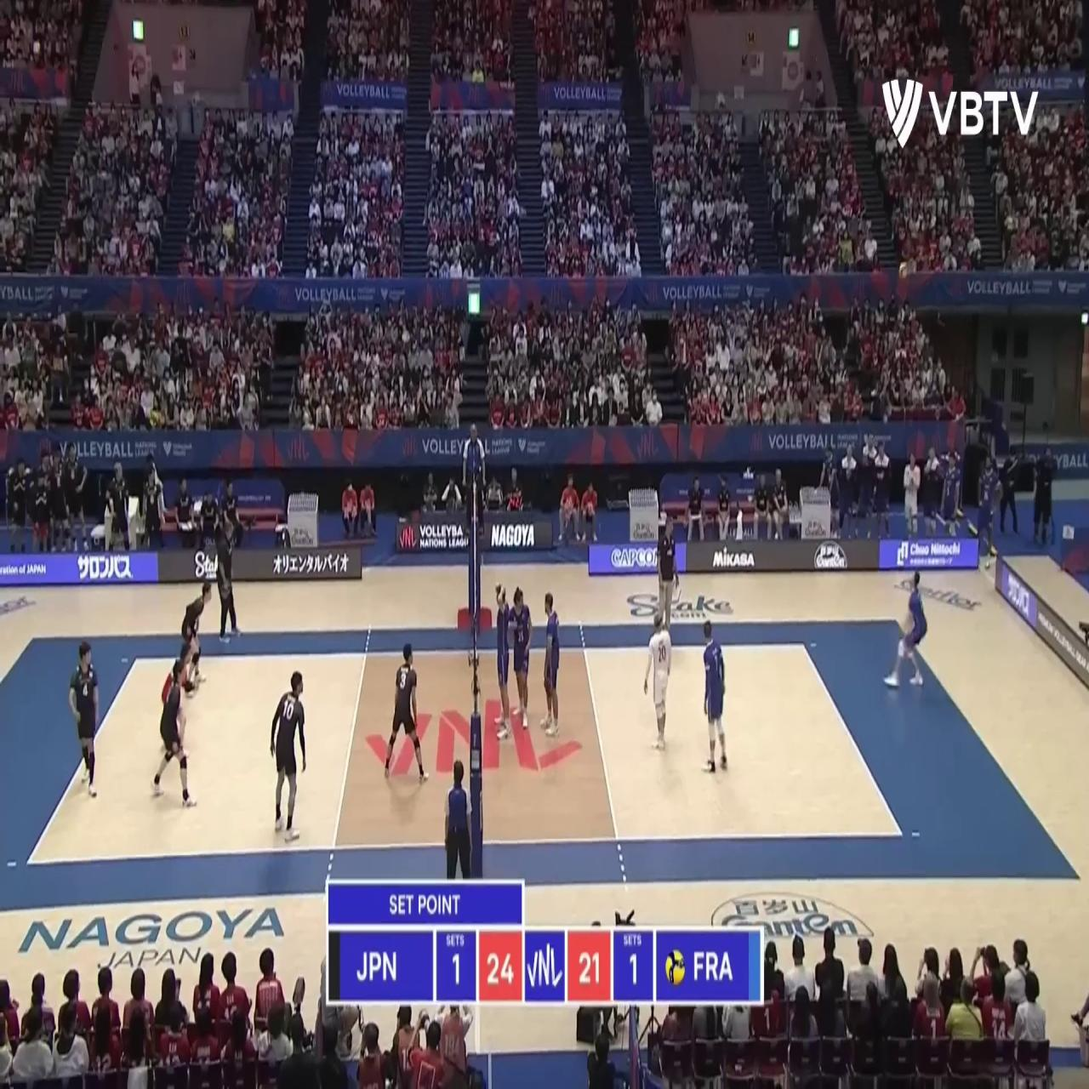ball: (899, 261, 909, 282)
